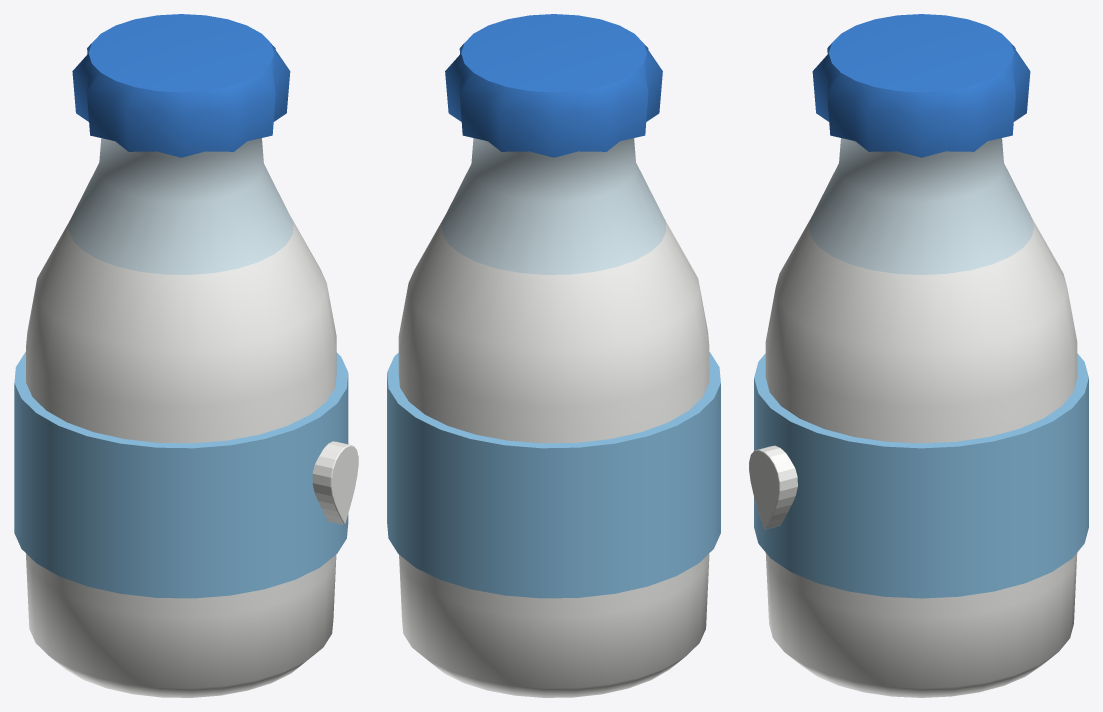
File: leite.glb
3 views of the same model, side by side, from view 1: azimuth 30°, elevation 25°; view 2: azimuth 150°, elevation 25°; view 3: azimuth 270°, elevation 25° (orthographic).
Visible parts, largest first — view 1: leite; view 2: leite; view 3: leite.
Boxes of the visible parts, x1=… form: leite: x1=14, y1=14, x2=358, y2=697; leite: x1=387, y1=14, x2=720, y2=697; leite: x1=749, y1=14, x2=1088, y2=697.
Bounding box in the file's own units: 0.101 × 0.197 × 0.1025.
